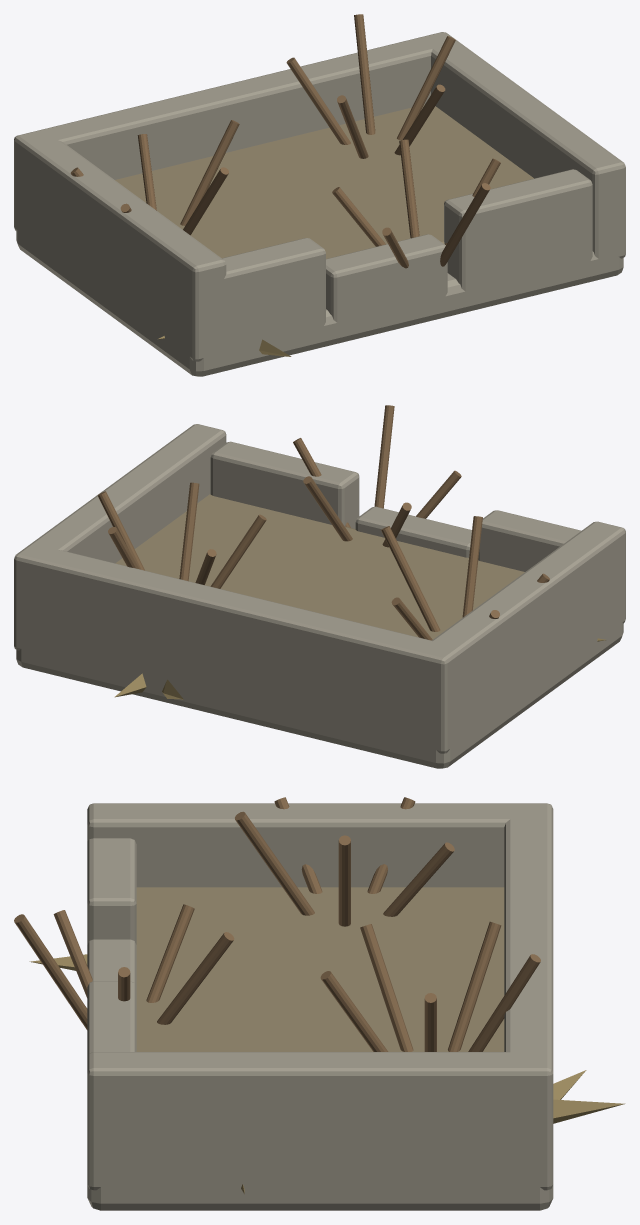
Rendered from Cracked_Planter_Withered.glb.
3 views of the same model, one above another, from view 1: azimuth 30°, elevation 25°; view 2: azimuth 150°, elevation 25°; view 3: azimuth 270°, elevation 25° (orthographic). The views are drawn at different scales.
Visible parts, largest first — view 1: Support, Growth; view 2: Support, Growth; view 3: Support, Growth.
Boxes of the visible parts, box(x1,y1,x2,y2) form: Support: box(14, 32, 625, 376); Growth: box(70, 14, 500, 356); Support: box(14, 424, 625, 768); Growth: box(97, 405, 605, 699); Support: box(87, 803, 553, 1210); Growth: box(14, 797, 625, 1193).
Bounding box in the file's own units: 2.74 × 0.9101 × 2.5.
